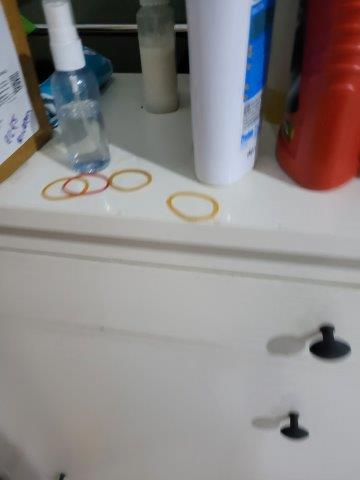karet: (168, 192, 218, 221), (42, 177, 90, 201), (64, 173, 111, 195), (106, 169, 151, 190)
